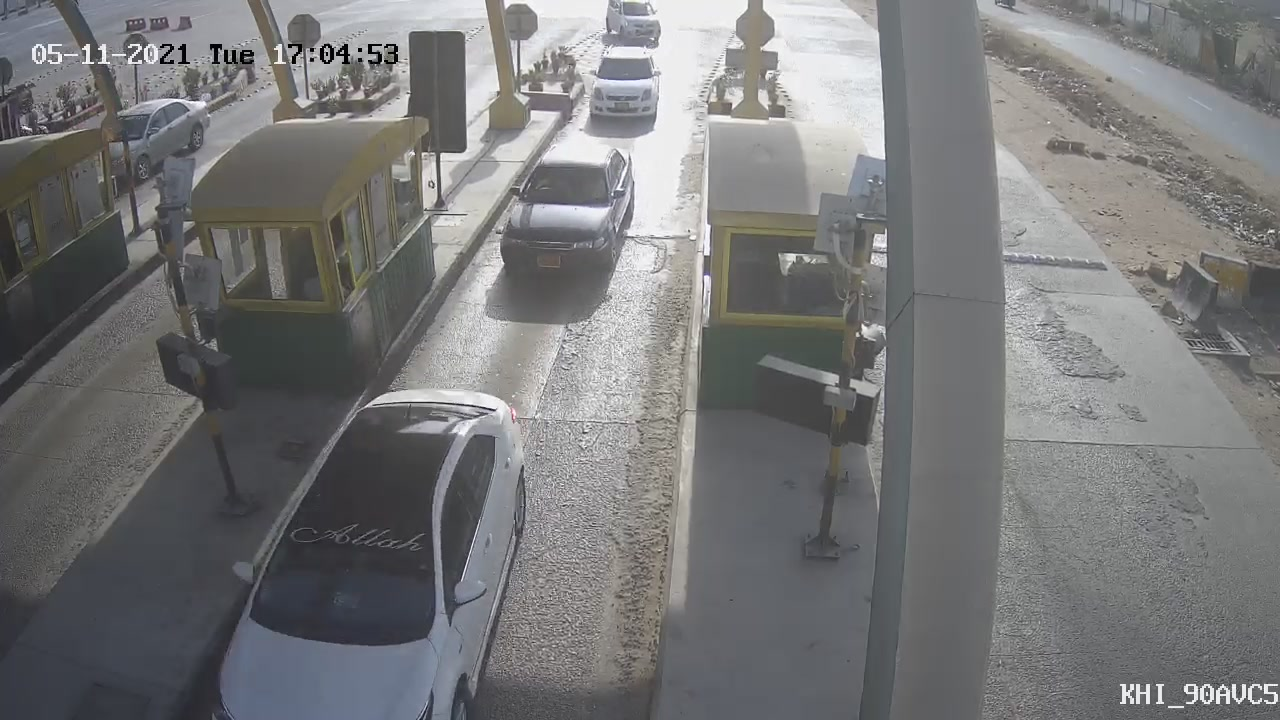F1: (485, 124, 649, 299), (578, 36, 676, 138)
